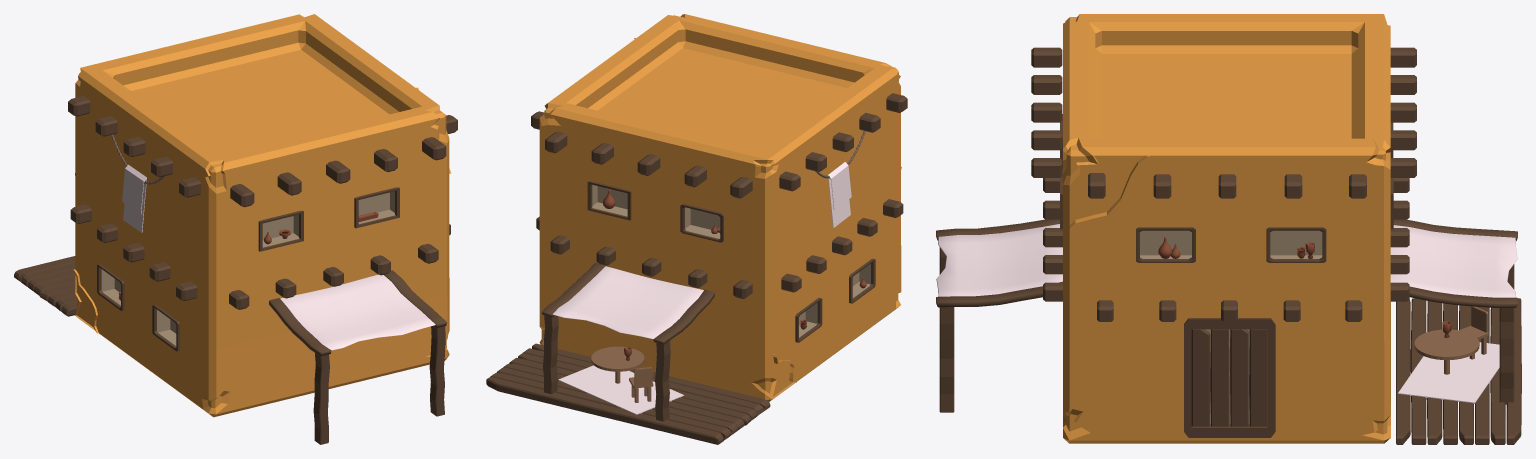
The model's file is HOUSE04.fbx.
The picture shows the model from 3 angles, left to right: view 1: azimuth 30°, elevation 25°; view 2: azimuth 150°, elevation 25°; view 3: azimuth 270°, elevation 25°; orthographic projection. The views are drawn at different scales.
Parts seen in each view (by area): view 1: ev5; view 2: ev5; view 3: ev5.
Boxes of the visible parts, box(x1,y1,x2,y2) form: ev5: box(14, 14, 457, 444); ev5: box(486, 14, 907, 444); ev5: box(936, 14, 1521, 444).
Bounding box in the file's own units: 1.14 × 1 × 1.79.
